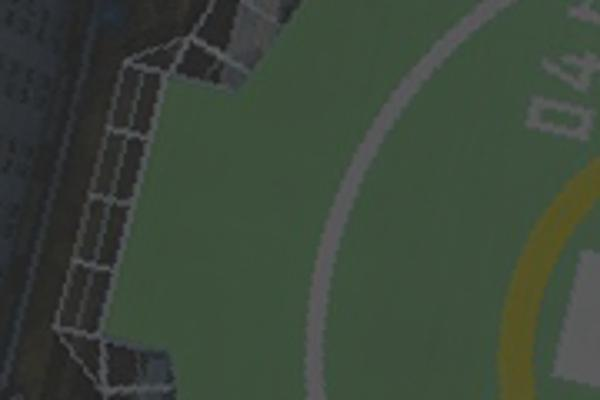Apron: (491, 148, 599, 400)
